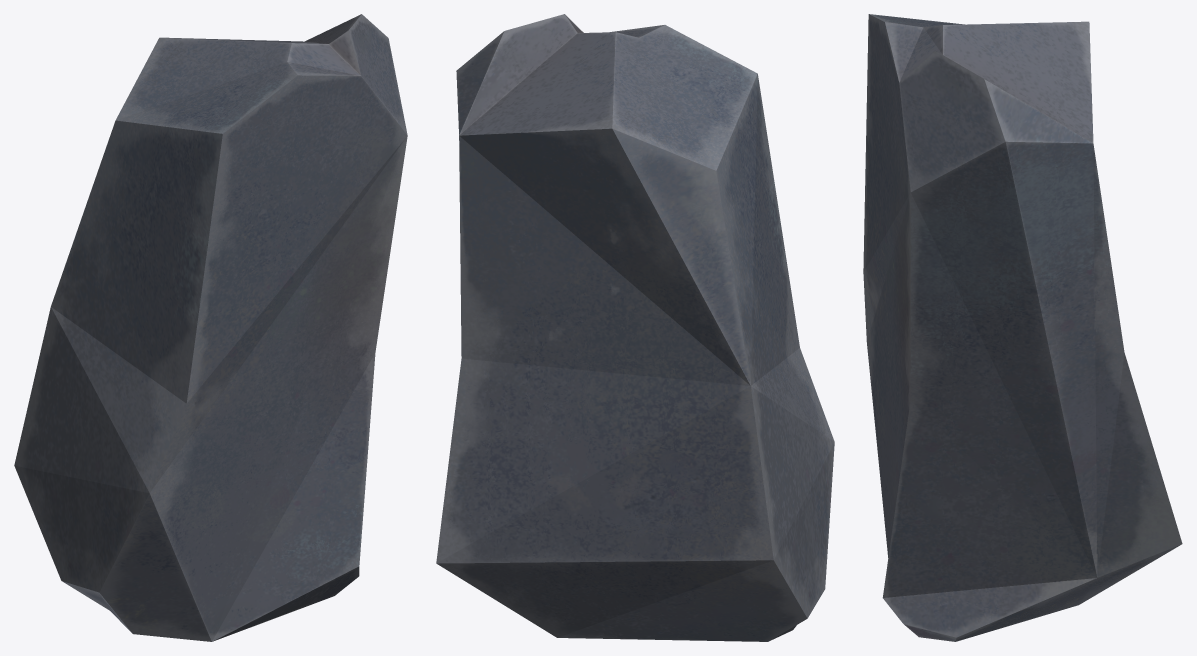
Rendered from stylized_rock_20.fbx.
The picture shows the model from 3 angles, left to right: view 1: azimuth 30°, elevation 25°; view 2: azimuth 150°, elevation 25°; view 3: azimuth 270°, elevation 25°; orthographic projection. The views are drawn at different scales.
Visible parts, largest first — view 1: stylized_rock_20; view 2: stylized_rock_20; view 3: stylized_rock_20.
Part boxes in pixels (box(x1,y1,x2,y2)): stylized_rock_20: box(14, 14, 407, 641); stylized_rock_20: box(436, 14, 834, 641); stylized_rock_20: box(863, 14, 1182, 641).
Bounding box in the file's own units: 86.26 × 135 × 64.79.
